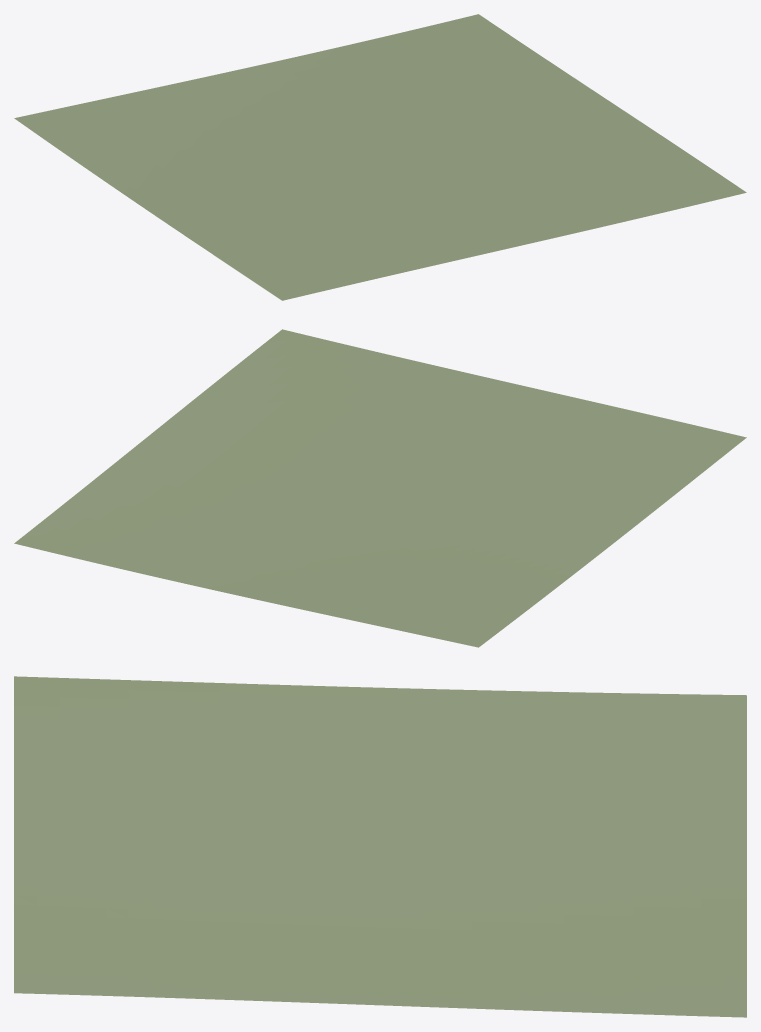
The model's file is expanse-0-10.glb.
3 renders of one model, top to bottom at view 1: azimuth 30°, elevation 25°; view 2: azimuth 150°, elevation 25°; view 3: azimuth 270°, elevation 25°, orthographic. The views are drawn at different scales.
Parts seen in each view (by area): view 1: expanse-0-10; view 2: expanse-0-10; view 3: expanse-0-10.
Boxes of the visible parts, bbox=[...] form: expanse-0-10: bbox=[14, 14, 746, 300]; expanse-0-10: bbox=[14, 329, 746, 647]; expanse-0-10: bbox=[14, 676, 746, 1017].
Size of the model in its own units: 256 by 12.11 by 256.
